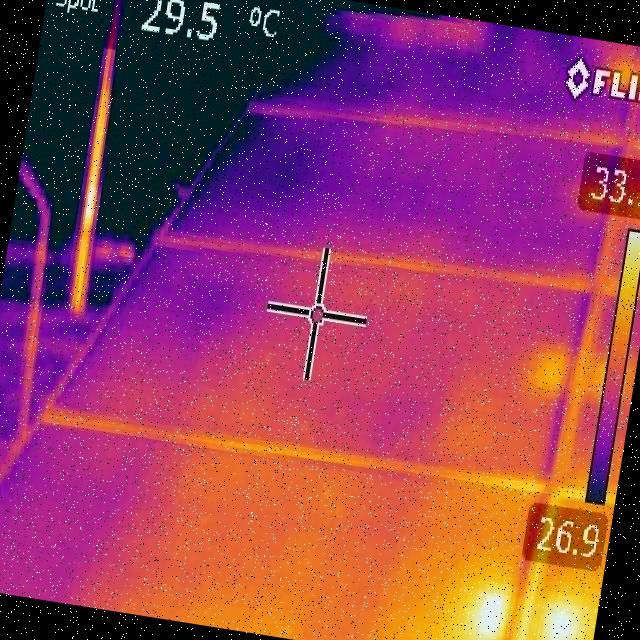Hotspot: (446, 563, 519, 640), (530, 598, 591, 640), (525, 346, 570, 399)
